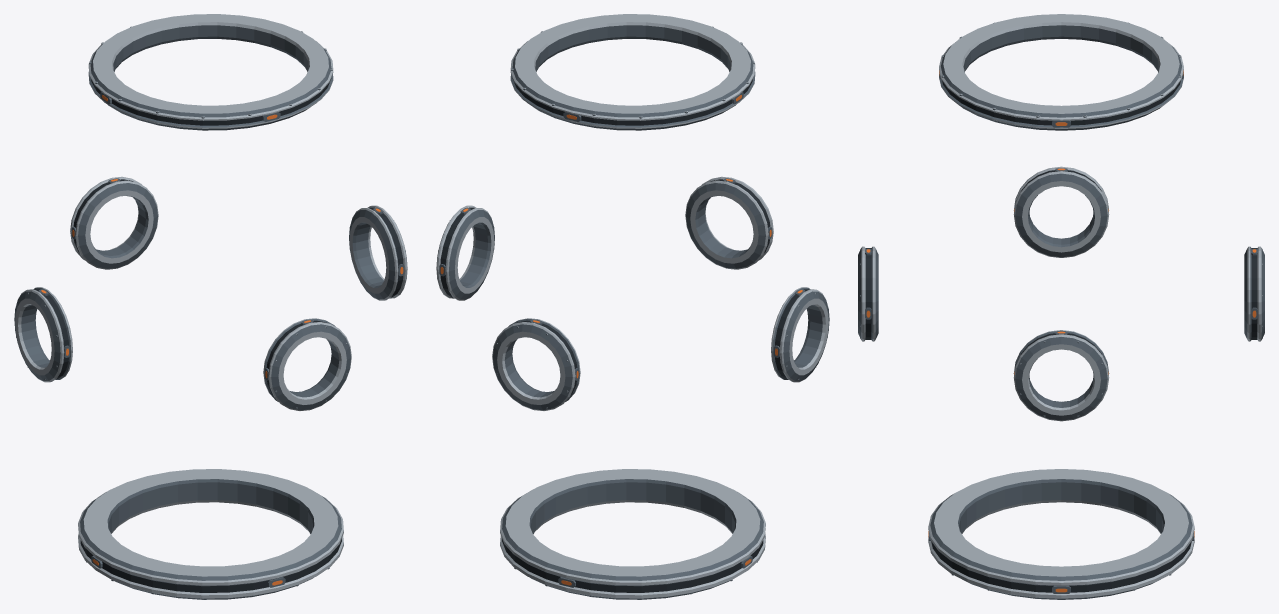
Rendered from conectores_modulares.glb.
3 views of the same model, side by side, from view 1: azimuth 30°, elevation 25°; view 2: azimuth 150°, elevation 25°; view 3: azimuth 270°, elevation 25° (orthographic).
Visible parts, largest first — view 1: Anillo, marco y fijaciones | Motor, Anillo, marco y fijaciones | Cabina, Anillo, marco y fijaciones | Lateral 03, Anillo, marco y fijaciones | Lateral, Anillo, marco y fijaciones | Lateral 02, Anillo, marco y fijaciones | Lateral 04; view 2: Anillo, marco y fijaciones | Motor, Anillo, marco y fijaciones | Cabina, Anillo, marco y fijaciones | Lateral, Anillo, marco y fijaciones | Lateral 03, Anillo, marco y fijaciones | Lateral 02, Anillo, marco y fijaciones | Lateral 04; view 3: Anillo, marco y fijaciones | Motor, Anillo, marco y fijaciones | Cabina, Anillo, marco y fijaciones | Lateral 02, Anillo, marco y fijaciones | Lateral 04, Anillo, marco y fijaciones | Lateral, Anillo, marco y fijaciones | Lateral 03.
Boxes of the visible parts, left/top/right/bottom form: Anillo, marco y fijaciones | Motor: left=78, top=469, right=343, bottom=599; Anillo, marco y fijaciones | Cabina: left=88, top=14, right=333, bottom=130; Anillo, marco y fijaciones | Lateral 03: left=70, top=176, right=158, bottom=269; Anillo, marco y fijaciones | Lateral: left=263, top=318, right=351, bottom=410; Anillo, marco y fijaciones | Lateral 02: left=349, top=205, right=407, bottom=300; Anillo, marco y fijaciones | Lateral 04: left=14, top=287, right=72, bottom=382; Anillo, marco y fijaciones | Motor: left=500, top=469, right=765, bottom=599; Anillo, marco y fijaciones | Cabina: left=510, top=14, right=755, bottom=130; Anillo, marco y fijaciones | Lateral: left=685, top=176, right=773, bottom=269; Anillo, marco y fijaciones | Lateral 03: left=492, top=318, right=580, bottom=410; Anillo, marco y fijaciones | Lateral 02: left=436, top=205, right=494, bottom=300; Anillo, marco y fijaciones | Lateral 04: left=771, top=287, right=829, bottom=382; Anillo, marco y fijaciones | Motor: left=928, top=469, right=1194, bottom=599; Anillo, marco y fijaciones | Cabina: left=939, top=14, right=1183, bottom=130; Anillo, marco y fijaciones | Lateral 02: left=1013, top=330, right=1109, bottom=421; Anillo, marco y fijaciones | Lateral 04: left=1013, top=166, right=1109, bottom=257; Anillo, marco y fijaciones | Lateral: left=858, top=246, right=878, bottom=341; Anillo, marco y fijaciones | Lateral 03: left=1244, top=246, right=1264, bottom=341.
Size of the model in its own units: 3.34 by 4.36 by 3.34.
